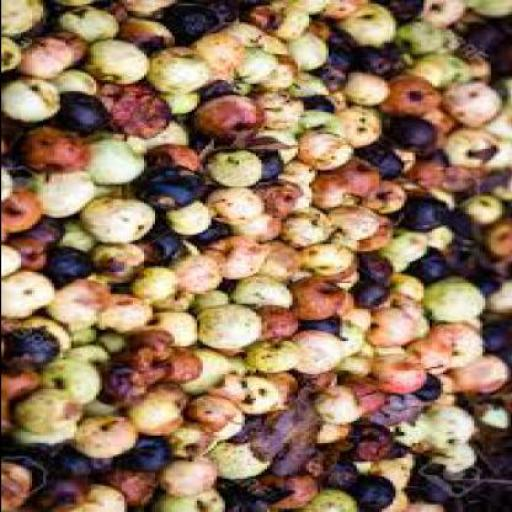biodegradable: (255, 382, 319, 472), (98, 82, 174, 138), (11, 384, 90, 430), (42, 276, 114, 326), (80, 196, 160, 240), (124, 382, 190, 434), (193, 91, 266, 138), (36, 454, 96, 511), (20, 125, 92, 172), (82, 134, 152, 182), (152, 42, 216, 93), (70, 413, 140, 458), (3, 439, 65, 488), (199, 301, 265, 346), (3, 74, 65, 119), (431, 318, 490, 365), (90, 240, 154, 283), (34, 171, 98, 214), (336, 2, 400, 45), (101, 462, 162, 507), (420, 402, 481, 447), (322, 158, 383, 203), (87, 39, 148, 84), (383, 71, 445, 115), (44, 359, 104, 404), (140, 166, 204, 208), (218, 372, 285, 412), (3, 368, 47, 428), (450, 80, 506, 127), (159, 452, 221, 494), (375, 348, 434, 392), (3, 270, 56, 318), (212, 477, 289, 510), (171, 244, 227, 289), (215, 434, 272, 478), (249, 0, 313, 39), (53, 92, 109, 136), (17, 34, 73, 78), (319, 381, 380, 421), (210, 236, 271, 276), (434, 276, 492, 318), (366, 304, 423, 346), (453, 352, 511, 393), (3, 324, 59, 366), (381, 290, 434, 334), (448, 124, 501, 168), (273, 0, 334, 38), (252, 88, 304, 132), (300, 127, 352, 170), (294, 330, 347, 372), (330, 203, 397, 236), (170, 1, 221, 43), (56, 6, 122, 38), (209, 147, 266, 184), (299, 240, 361, 274), (297, 275, 347, 317), (162, 423, 224, 456), (260, 236, 311, 276), (202, 32, 246, 78), (400, 191, 450, 231), (342, 67, 392, 107), (12, 415, 78, 445), (104, 292, 156, 330), (336, 104, 383, 146), (209, 186, 266, 220), (369, 393, 433, 423), (394, 406, 439, 448), (243, 336, 302, 368), (238, 273, 296, 305), (98, 366, 146, 404), (274, 472, 322, 510), (123, 18, 180, 50), (257, 50, 299, 93), (134, 265, 187, 299), (235, 18, 288, 52), (187, 346, 227, 391), (350, 422, 397, 460), (369, 451, 420, 486), (3, 190, 45, 232), (285, 207, 330, 246), (409, 337, 459, 372), (157, 486, 229, 510), (386, 117, 440, 149), (50, 242, 95, 280), (26, 315, 72, 352), (190, 394, 243, 426), (347, 374, 389, 414), (6, 233, 53, 268), (364, 177, 411, 212), (126, 328, 177, 360), (148, 142, 208, 169), (302, 484, 364, 510), (406, 52, 453, 86), (160, 344, 202, 382), (262, 177, 304, 214), (403, 17, 447, 52), (154, 311, 202, 343), (358, 144, 406, 176), (414, 467, 454, 505), (210, 414, 252, 450), (84, 478, 131, 510), (403, 158, 447, 192), (3, 1, 47, 35), (3, 462, 34, 510), (237, 45, 277, 82), (431, 441, 481, 470), (386, 232, 428, 266), (465, 192, 509, 224), (168, 200, 212, 232), (355, 477, 397, 510), (288, 34, 330, 67), (467, 19, 504, 56), (266, 371, 305, 406), (484, 214, 512, 262), (361, 218, 403, 250), (260, 304, 300, 336), (313, 62, 353, 94), (361, 41, 403, 71), (20, 215, 66, 242), (5, 142, 39, 178), (374, 458, 412, 490), (338, 344, 376, 376), (414, 248, 450, 281), (420, 0, 467, 25), (238, 212, 283, 238), (260, 129, 300, 158), (316, 174, 352, 206), (330, 26, 360, 64), (148, 227, 182, 260), (363, 248, 398, 280), (199, 0, 243, 25), (442, 164, 487, 188), (324, 458, 362, 486), (322, 440, 350, 478), (62, 218, 98, 247), (450, 242, 482, 274), (165, 88, 204, 114), (118, 0, 182, 15), (378, 1, 428, 20), (305, 315, 344, 339), (196, 220, 235, 244), (62, 67, 98, 93), (255, 146, 282, 180), (355, 278, 390, 304), (322, 0, 375, 17), (486, 279, 511, 315), (398, 268, 428, 298), (302, 369, 339, 393), (154, 117, 191, 141), (3, 242, 28, 277), (202, 76, 248, 95), (86, 393, 121, 417), (157, 291, 199, 311), (318, 421, 356, 443), (344, 315, 366, 352), (3, 34, 25, 71), (466, 0, 510, 18), (3, 115, 22, 155), (70, 345, 112, 363), (146, 362, 173, 389), (326, 259, 364, 278), (196, 289, 232, 309), (327, 231, 367, 249), (436, 374, 458, 406), (258, 2, 285, 28), (428, 224, 459, 246), (418, 374, 444, 400), (448, 50, 470, 80), (227, 354, 252, 380), (291, 181, 316, 207), (2, 160, 18, 199), (288, 160, 316, 182), (484, 168, 512, 190), (72, 324, 104, 343), (472, 274, 504, 293), (419, 147, 454, 164), (347, 307, 374, 329), (282, 264, 316, 281), (434, 108, 458, 132), (450, 208, 472, 234), (470, 55, 492, 80), (487, 326, 509, 350), (384, 442, 411, 461), (132, 348, 154, 370), (104, 330, 126, 352), (445, 26, 465, 50), (327, 89, 352, 108), (387, 490, 411, 509), (314, 17, 336, 35), (409, 500, 448, 510), (467, 312, 482, 328), (53, 0, 98, 4)
